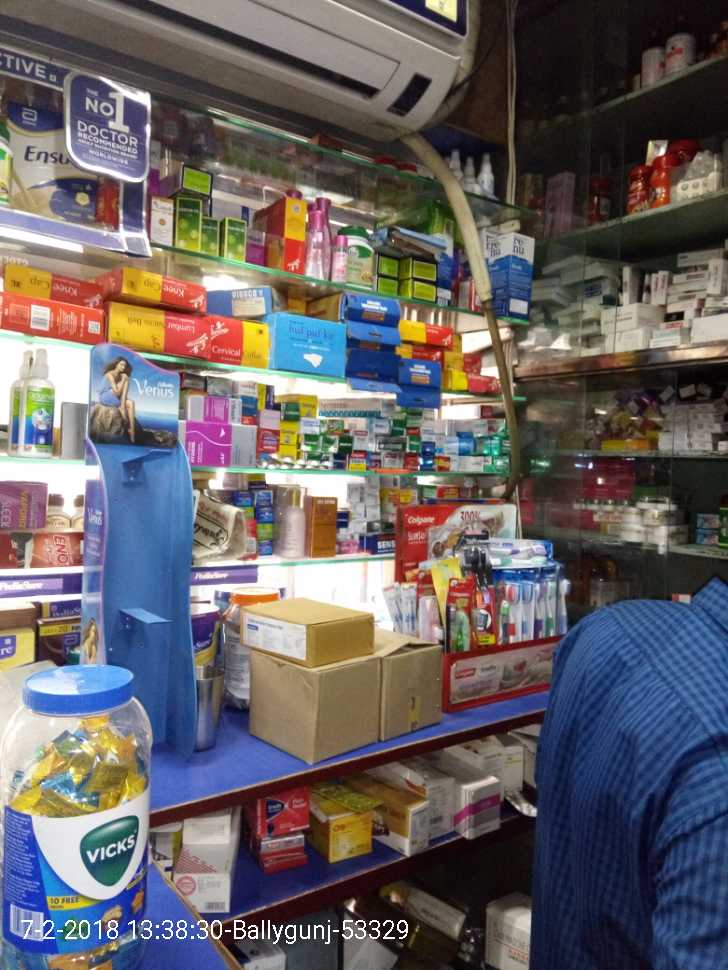reject: (139, 373, 317, 532)
